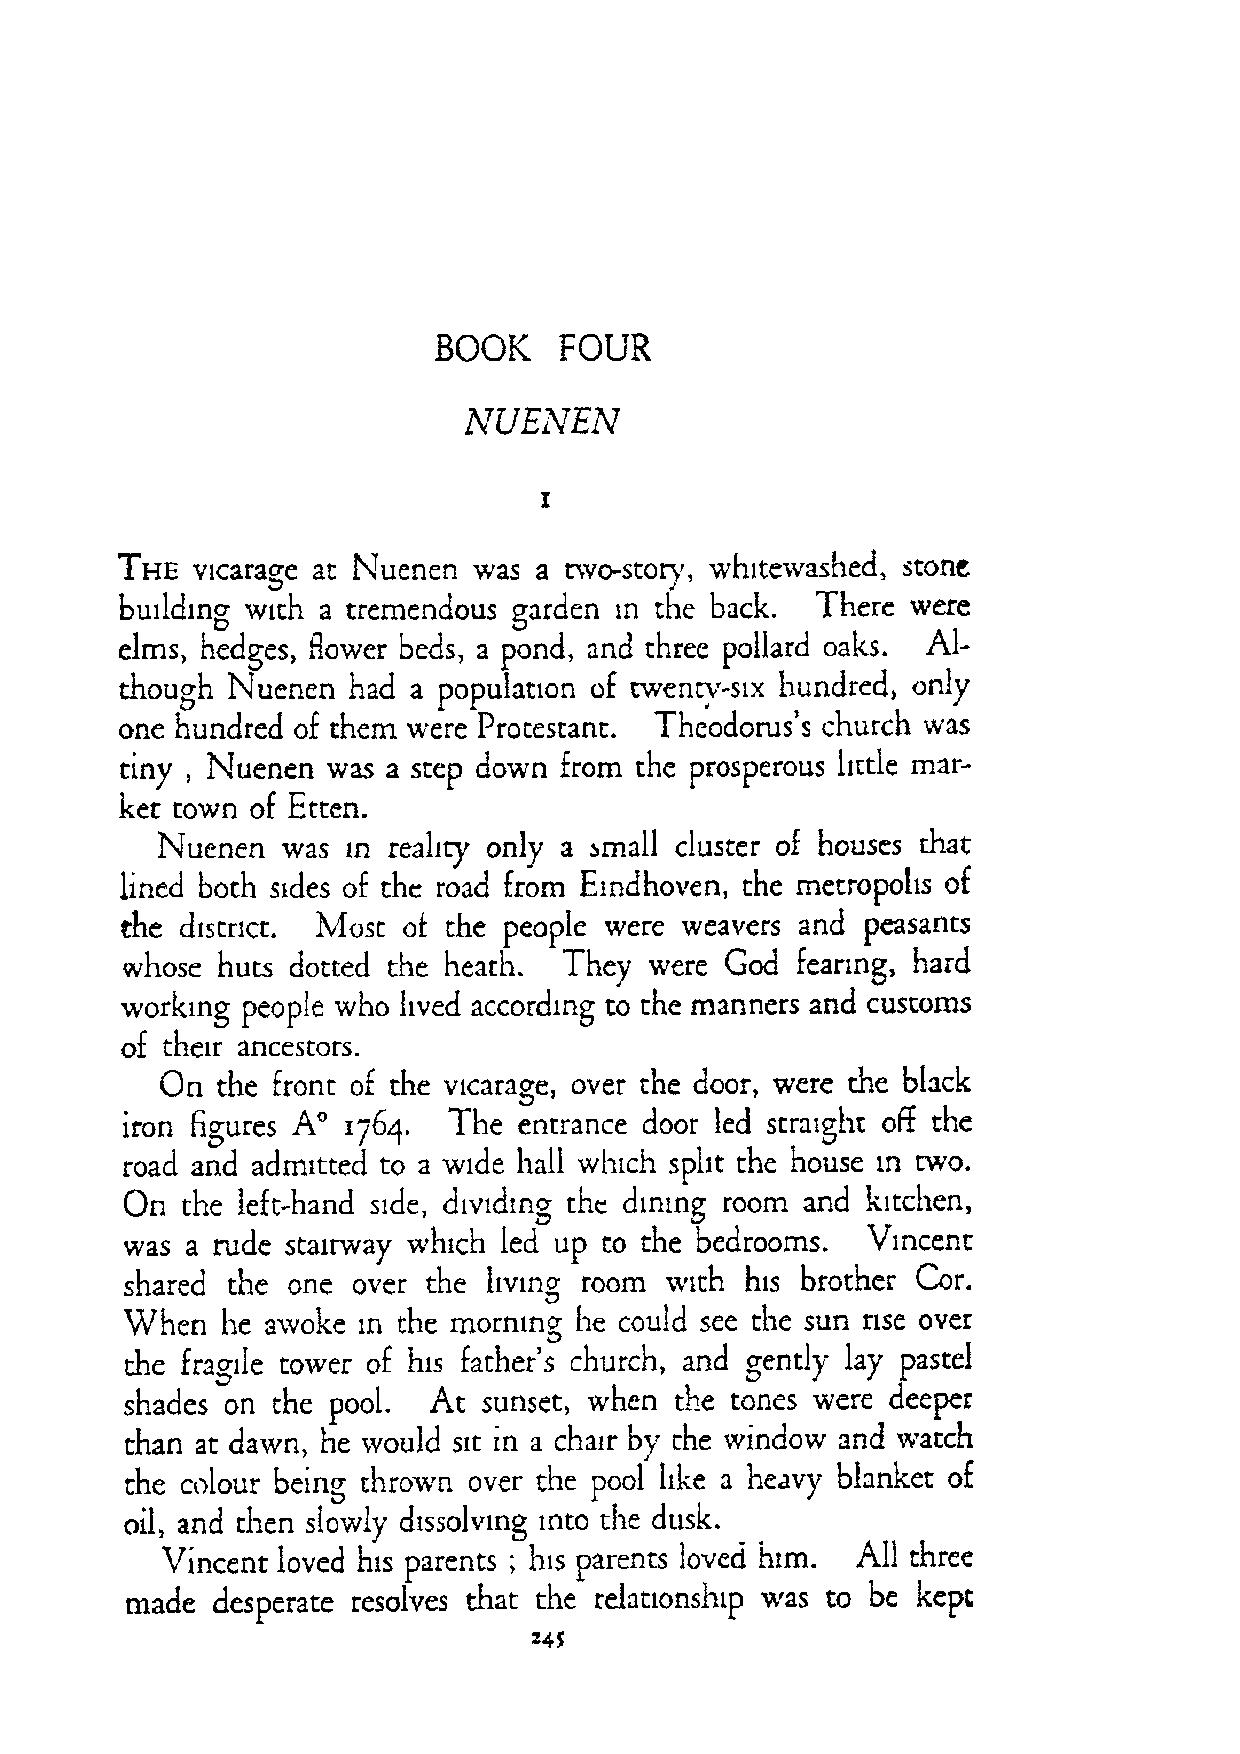chapter: (432, 326, 655, 446)
content: (111, 548, 978, 1620)
content_pagenumber: (527, 1628, 565, 1649)
